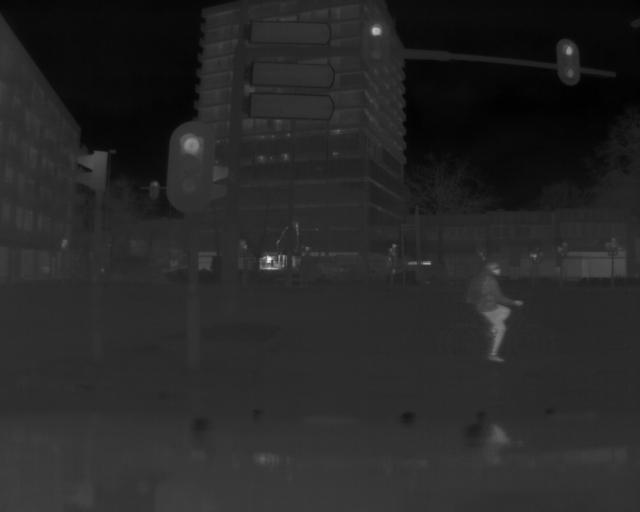person: (474, 261, 525, 362)
